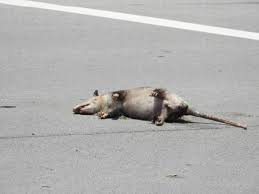opossum: (73, 87, 249, 132)
